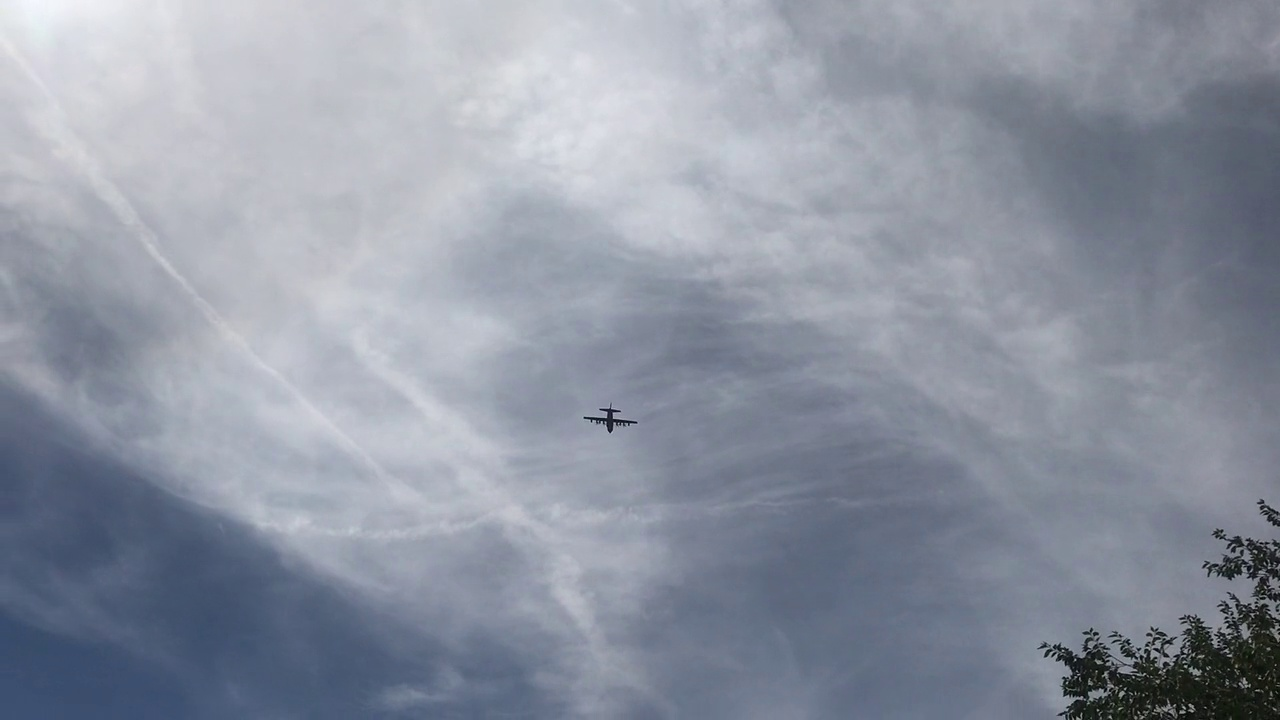plane: (581, 400, 637, 434)
